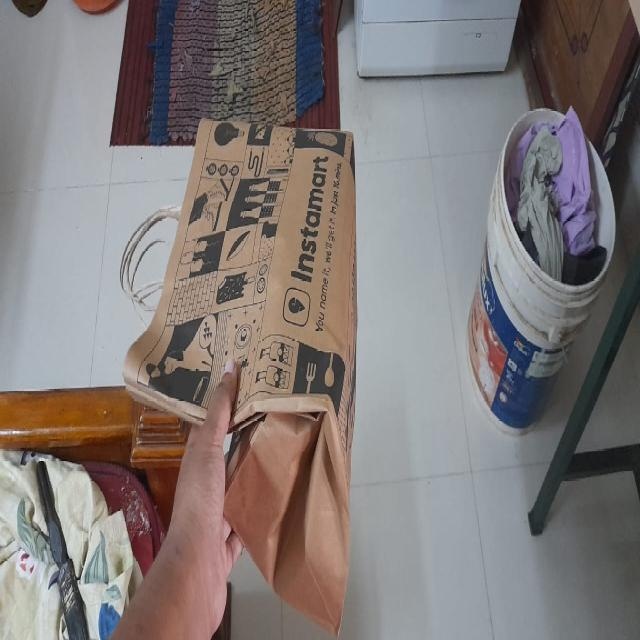Paper_Bag - Recyclable: (120, 113, 358, 634)
